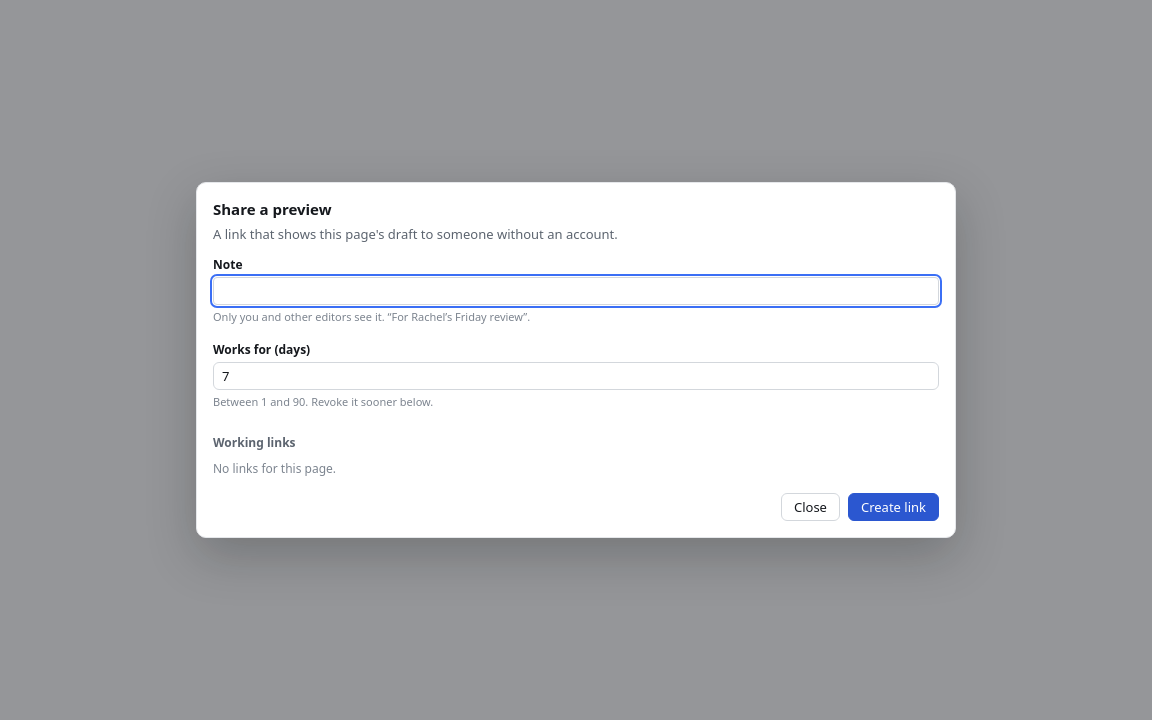
Scenario: the share dialog › refuses a day count outside 1 to 90 before asking the server
Replace the text in the number field labelled "Works for (days)" with "120" at (576, 376), box left=213, top=362, right=939, bottom=390
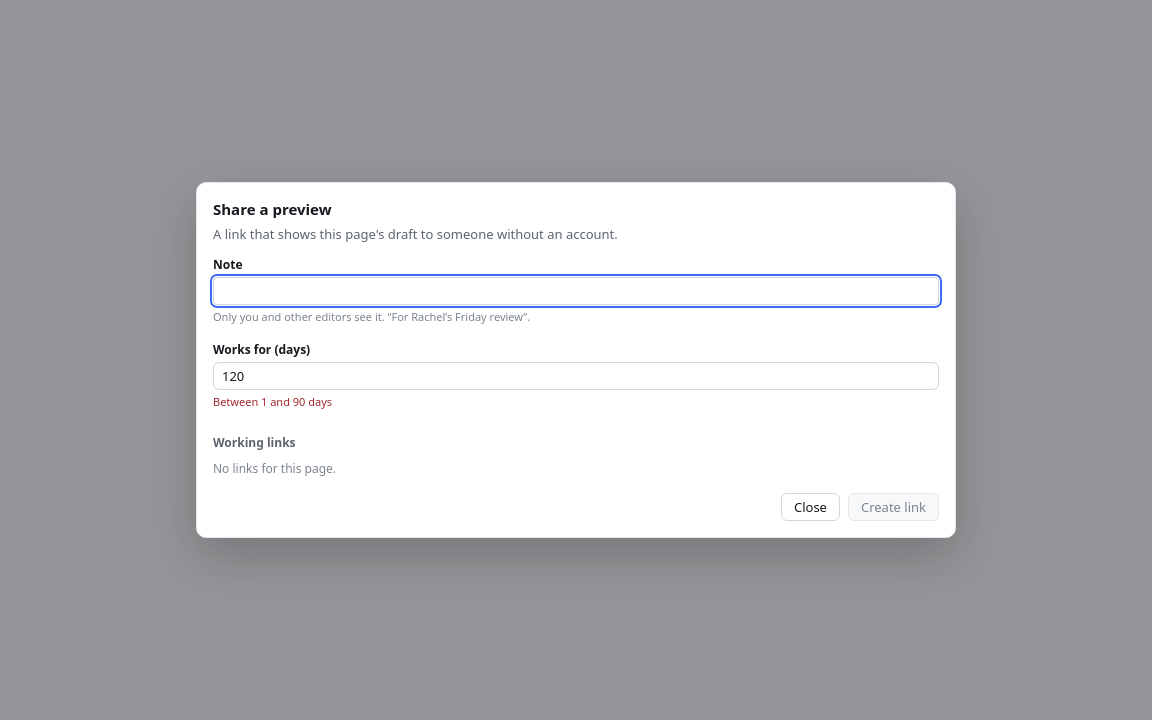
Expected: the button "Create link" is disabled, left=848, top=493, right=939, bottom=521
